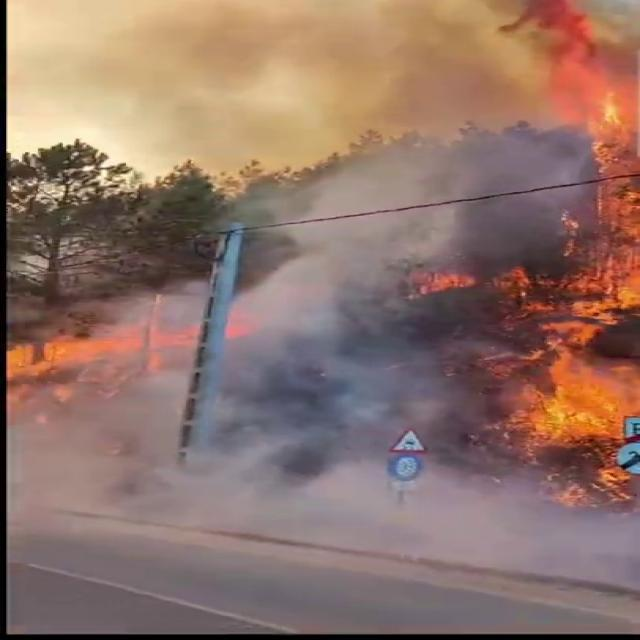Fire: (469, 77, 639, 480), (3, 272, 233, 416)
Smoke: (18, 0, 592, 615)
